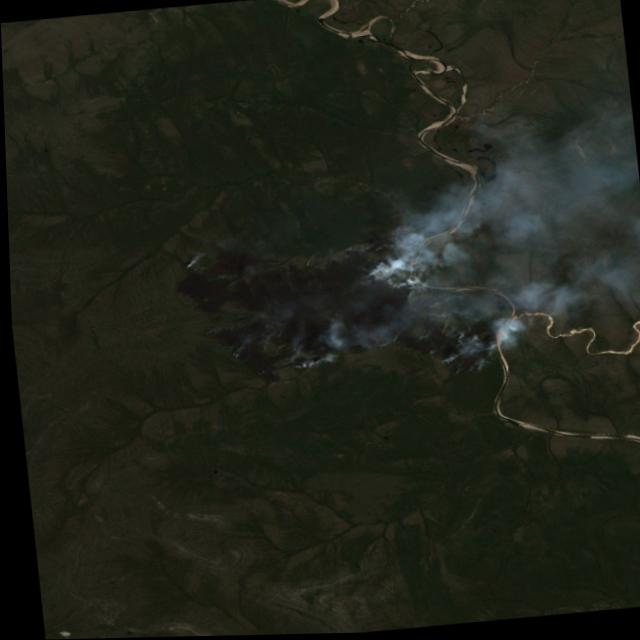fire: (262, 224, 505, 397)
